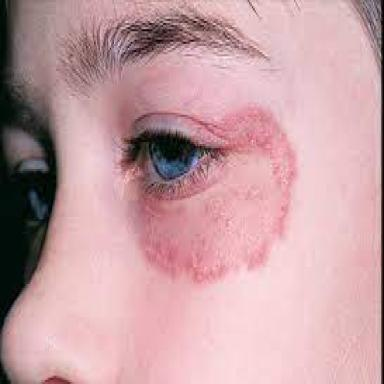Tinea-Corporis: (137, 105, 293, 282)
